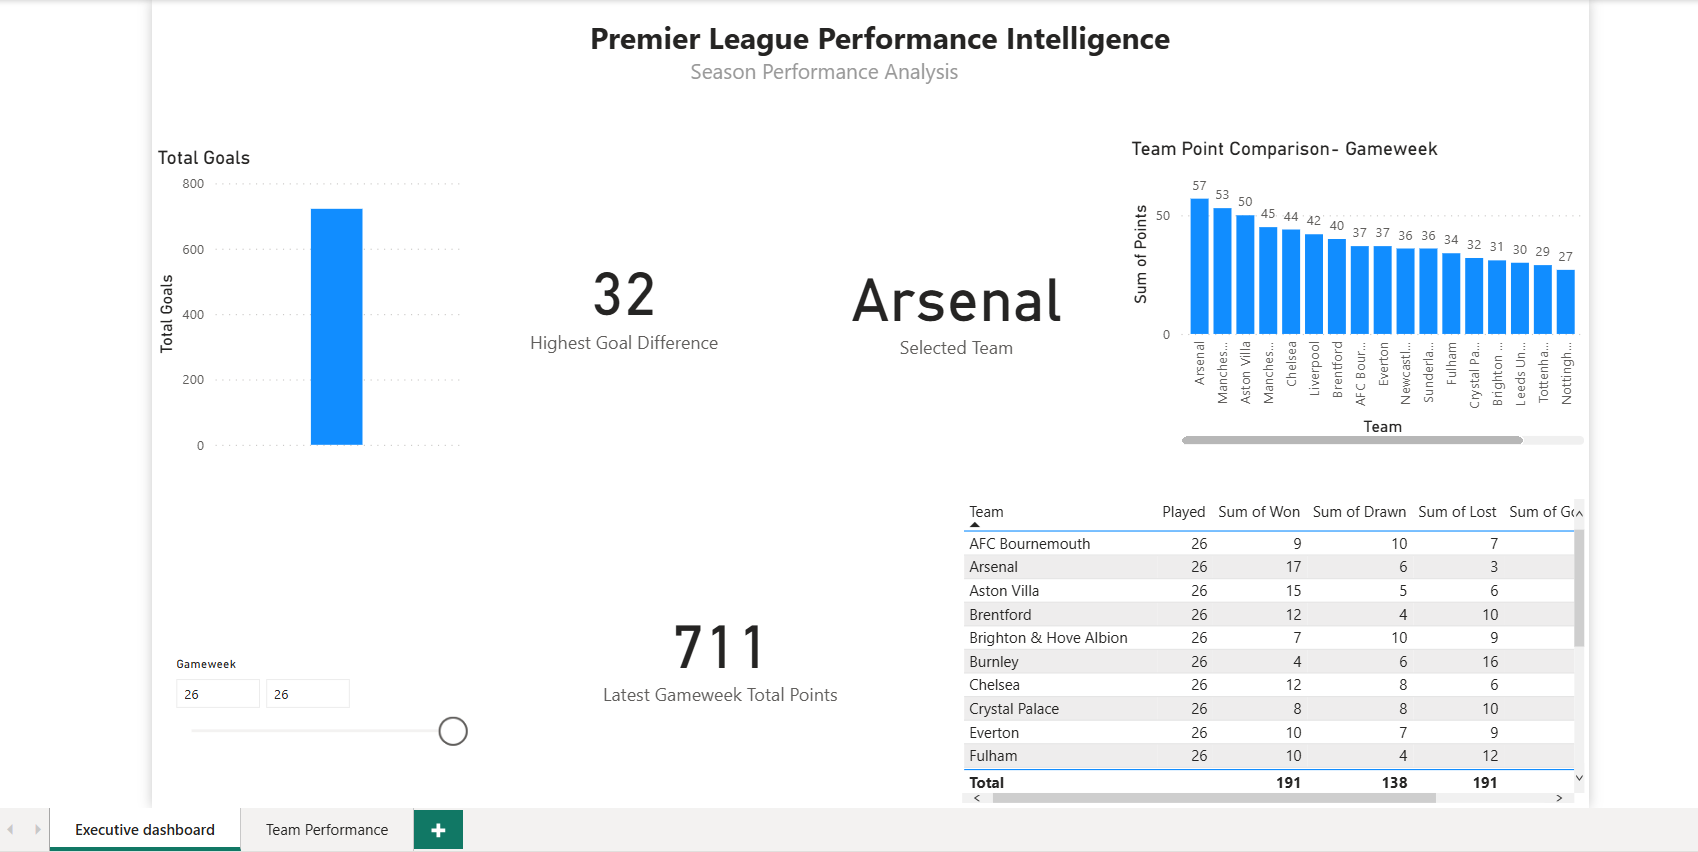

Layout of this report page (visuals, bound fields, positions):
{"tool":"powerbi","page":{"name":"Executive dashboard","canvas":[1280,720],"ordinal":0},"visuals":[{"type":"clusteredColumnChart","fields":{"Y":["Premier_League_Cleaned.Latest Gameweek Total Goals"]},"box":[0,130,280,280],"z":0},{"type":"card","fields":{"Values":["Premier_League_Cleaned.Latest Gameweek Total Points"]},"box":[366.7,440,280,280],"z":1000},{"type":"card","fields":{"Values":["Premier_League_Cleaned.League Leader"]},"box":[576.7,128.9,280,283.3],"z":2000},{"type":"card","fields":{"Values":["Premier_League_Cleaned.Highest Goal Difference"]},"box":[280,130,280,271.1],"z":3000},{"type":"tableEx","fields":{"Values":["Premier_League_Cleaned.Team","Premier_League_Cleaned.Played","Sum(Premier_League_Cleaned.Won)","Sum(Premier_League_Cleaned.Drawn)","Sum(Premier_League_Cleaned.Lost)","Sum(Premier_League_Cleaned.Goal Difference)","Premier_League_Cleaned.Points"]},"box":[716.7,440,563.3,280],"z":4000},{"type":"slicer","fields":{"Values":["Premier_League_Cleaned.Gameweek"]},"box":[9.3,580.2,280.2,119.8],"z":5000},{"type":"clusteredColumnChart","title":"Team Point Comparison- Gameweek ","fields":{"Category":["Premier_League_Cleaned.Team"],"Y":["Sum(Premier_League_Cleaned.Points)"]},"box":[866.7,122.2,413.3,278.9],"z":6000},{"type":"textbox","box":[377.1,10,548.6,80],"z":7000}]}

Visuals, with their boxes on the page's 1280x720 design canvas (x1, y1, x2, y2). These are canvas units, not pixel positions in the 1698x852 screenshot, which may show the page scaled, cropped or inside an application window:
clusteredColumnChart - Premier_League_Cleaned.Latest Gameweek Total Goals: (0, 130, 280, 410)
card - Premier_League_Cleaned.Latest Gameweek Total Points: (367, 440, 647, 720)
card - Premier_League_Cleaned.League Leader: (577, 129, 857, 412)
card - Premier_League_Cleaned.Highest Goal Difference: (280, 130, 560, 401)
tableEx - Premier_League_Cleaned.Team x Premier_League_Cleaned.Played: (717, 440, 1280, 720)
slicer - Premier_League_Cleaned.Gameweek: (9, 580, 290, 700)
"Team Point Comparison- Gameweek " clusteredColumnChart: (867, 122, 1280, 401)
textbox: (377, 10, 926, 90)
